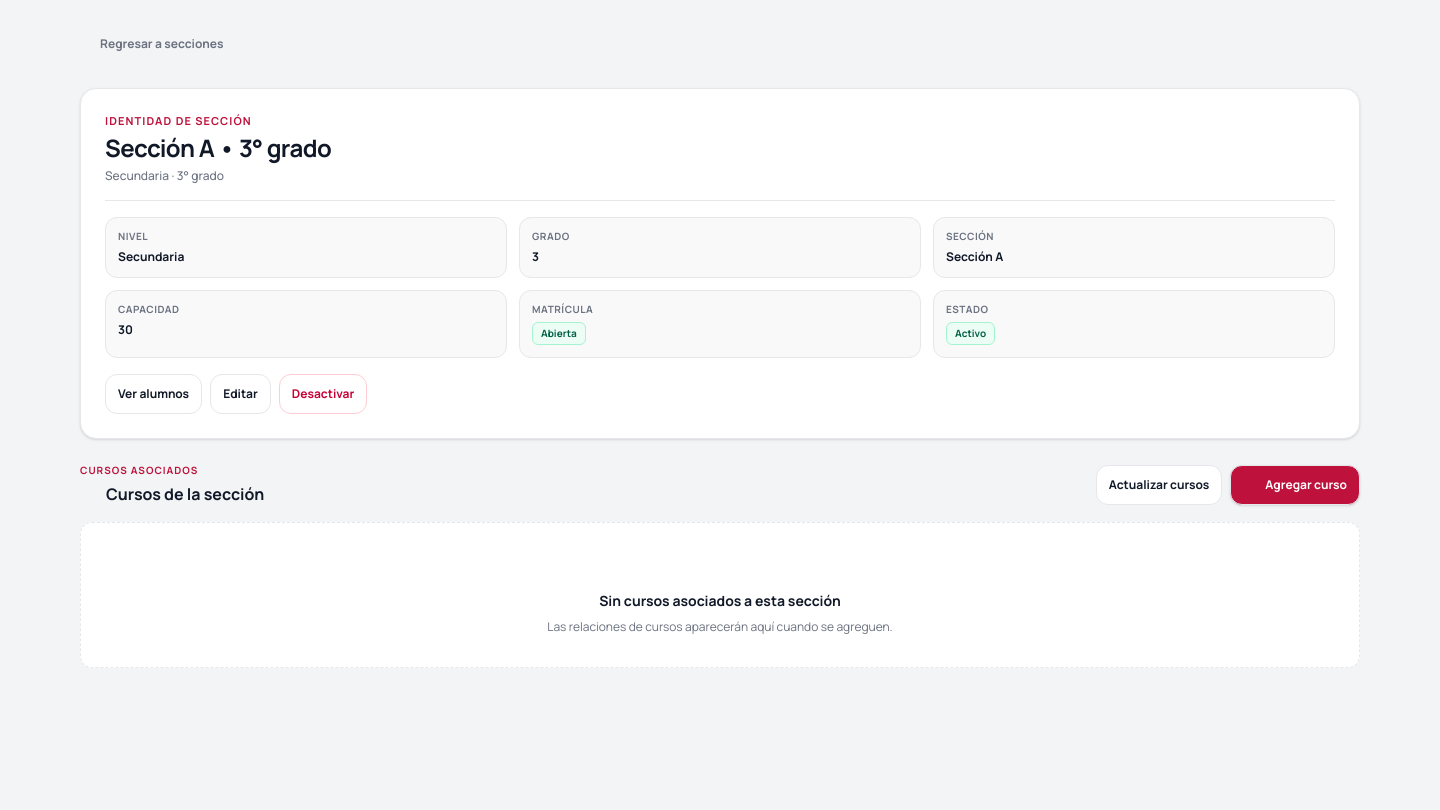
Test: deactivation with active enrollments needs a second explicit confirmation
Click the button "Desactivar".
click(323, 394)  # box x1=279 y1=374 x2=367 y2=414
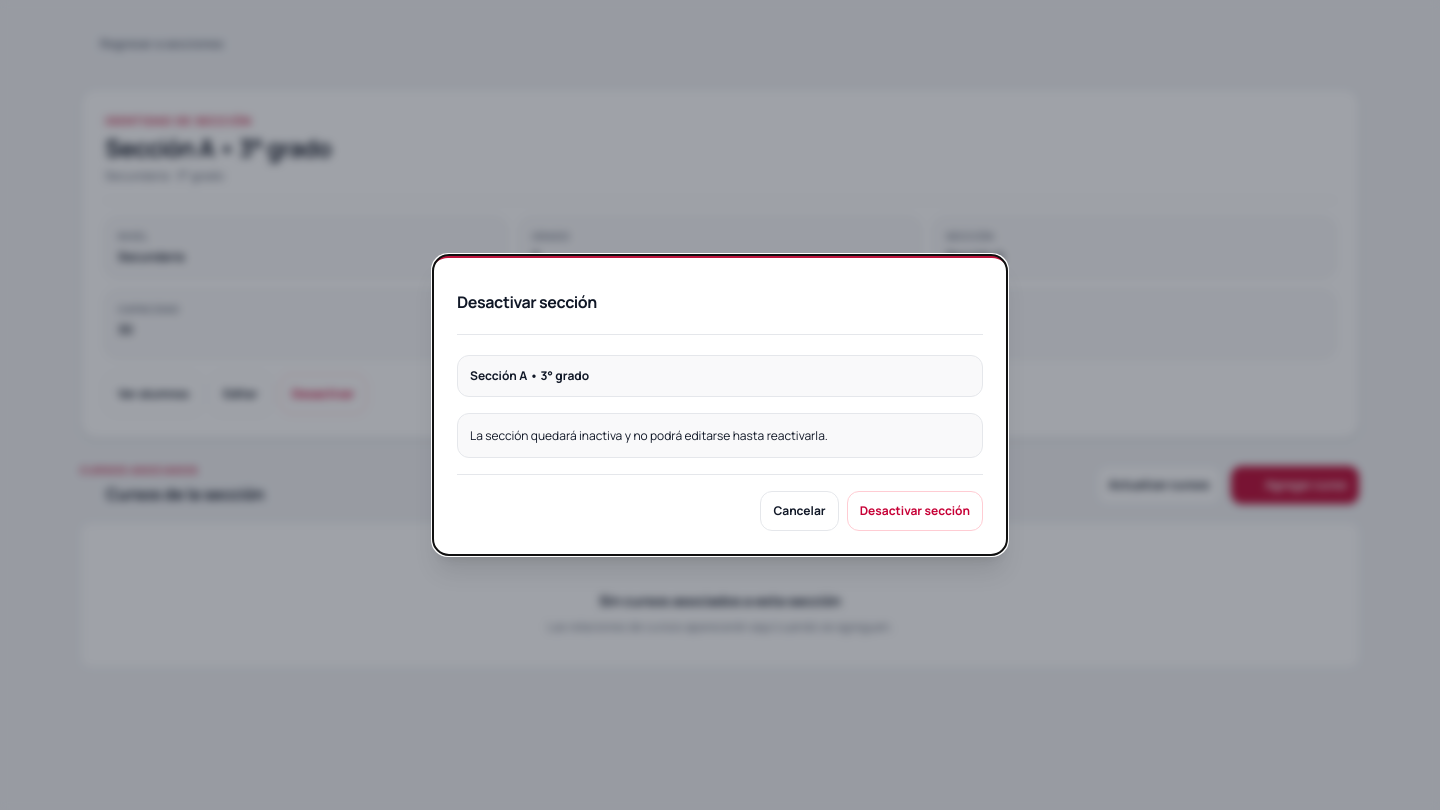
Submit the form, box x1=457 y1=355 x2=983 y2=531
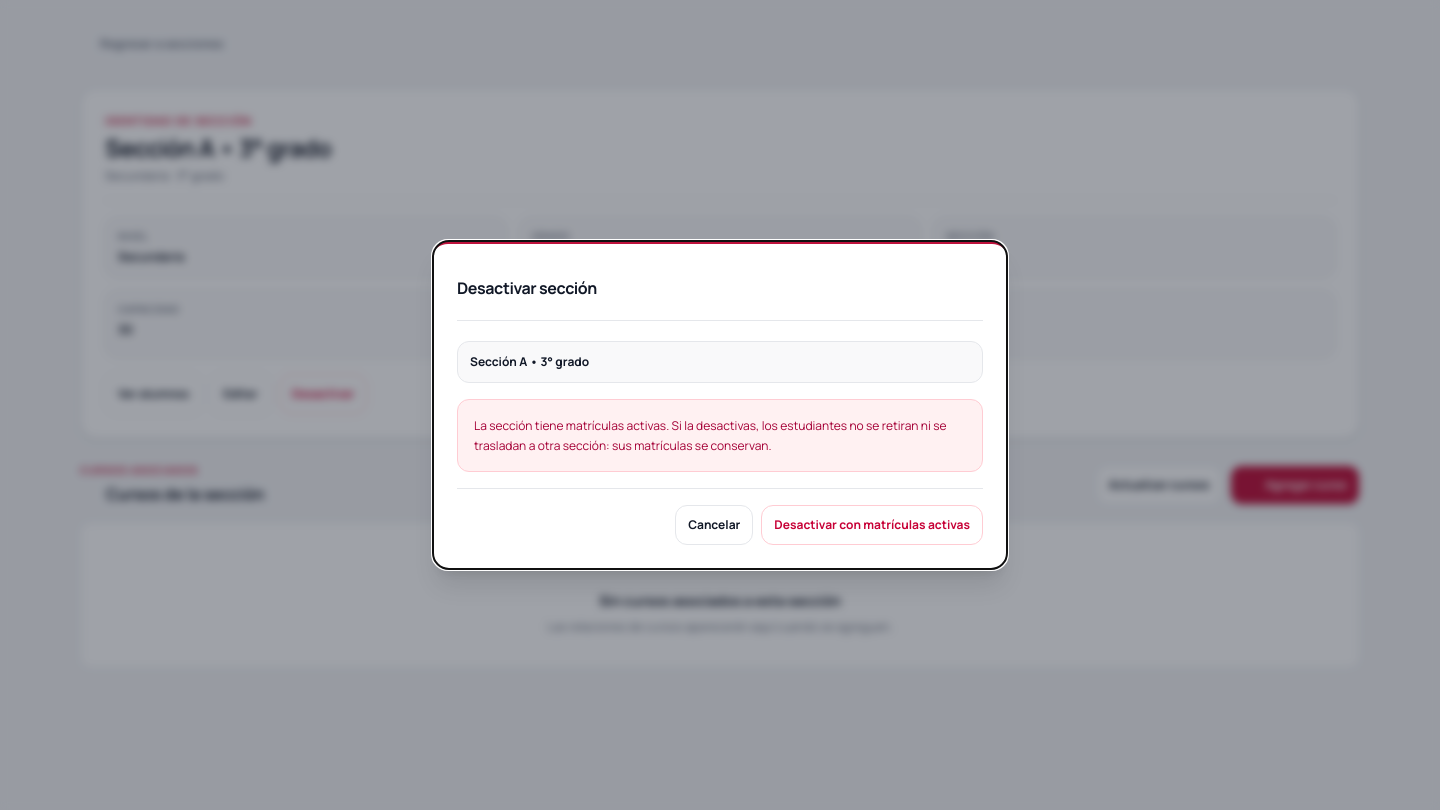
Check: the button "Desactivar con matrículas activas" is shown, box x1=761 y1=505 x2=983 y2=545
Check: the text "los estudiantes no se retiran ni se trasladan" is shown, box x1=474 y1=417 x2=946 y2=454
Submit the form, box x1=457 y1=341 x2=983 y2=545
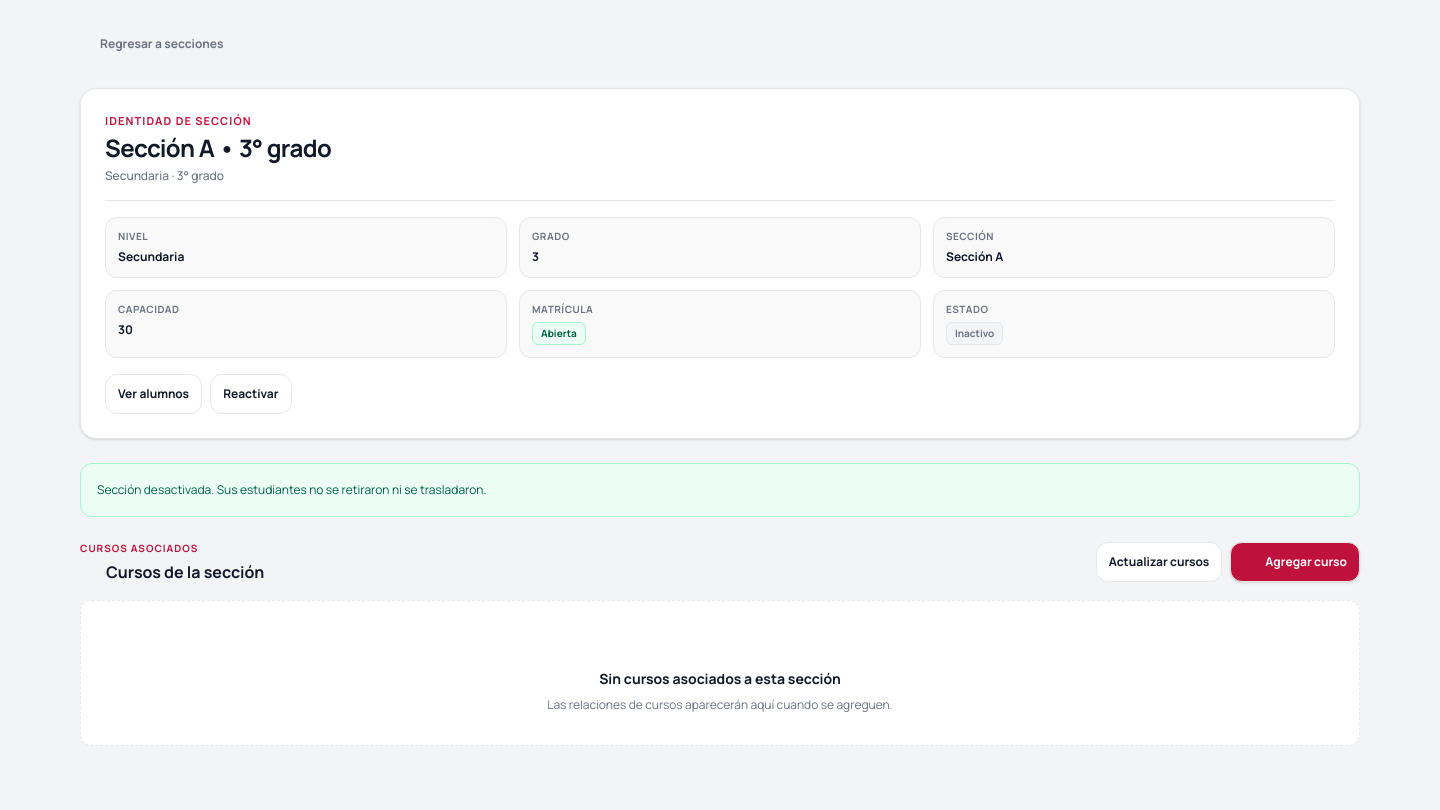
Check: the text "Sección desactivada" is shown, box x1=97 y1=482 x2=486 y2=498
Check: the button "Reactivar" is shown, box x1=210 y1=374 x2=292 y2=414
